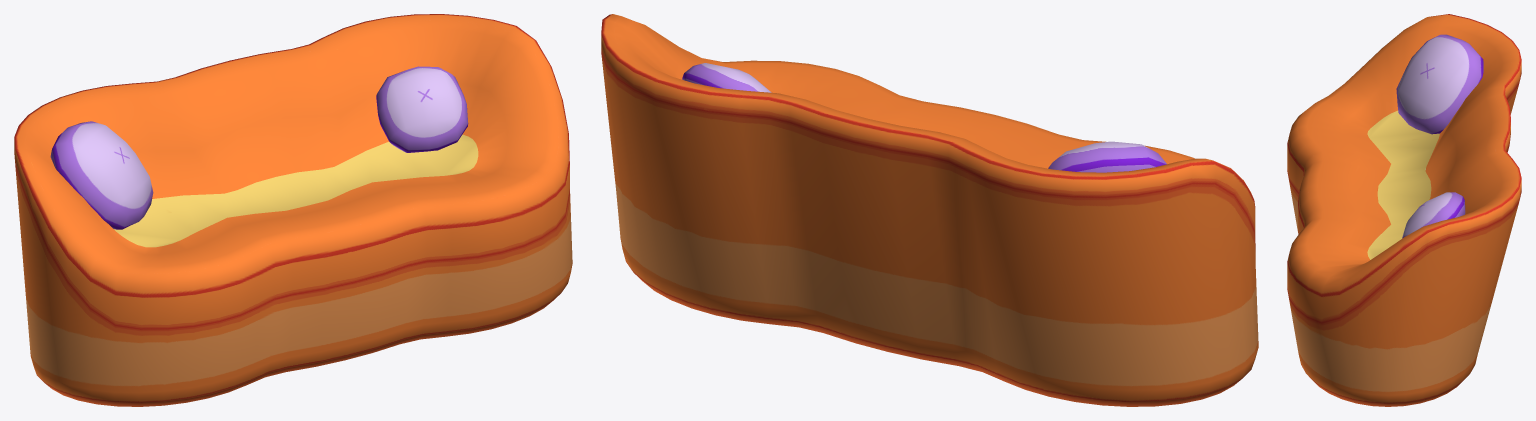
File: sofa.glb
3 views of the same model, side by side, from view 1: azimuth 30°, elevation 25°; view 2: azimuth 150°, elevation 25°; view 3: azimuth 270°, elevation 25° (orthographic). The views are drawn at different scales.
Parts seen in each view (by area): view 1: SofaUV.001; view 2: SofaUV.001; view 3: SofaUV.001.
Boxes of the visible parts, <box> form: SofaUV.001: <box>14,14,572,406</box>; SofaUV.001: <box>601,14,1258,406</box>; SofaUV.001: <box>1287,14,1521,406</box>.
Bounding box in the file's own units: 2.45 × 0.9845 × 1.12.
Materials: 1 (1 with a texture image).
